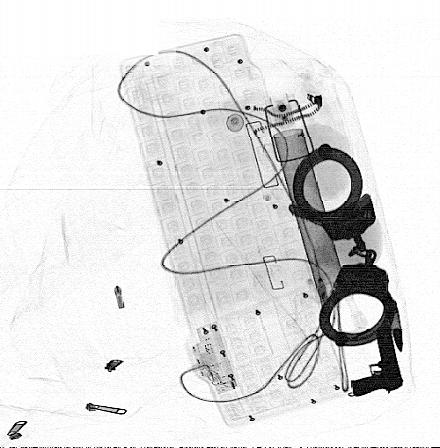Bullet: (387, 307, 403, 352)
Gun: (352, 324, 405, 398)
HandCuffs: (287, 143, 398, 349)
